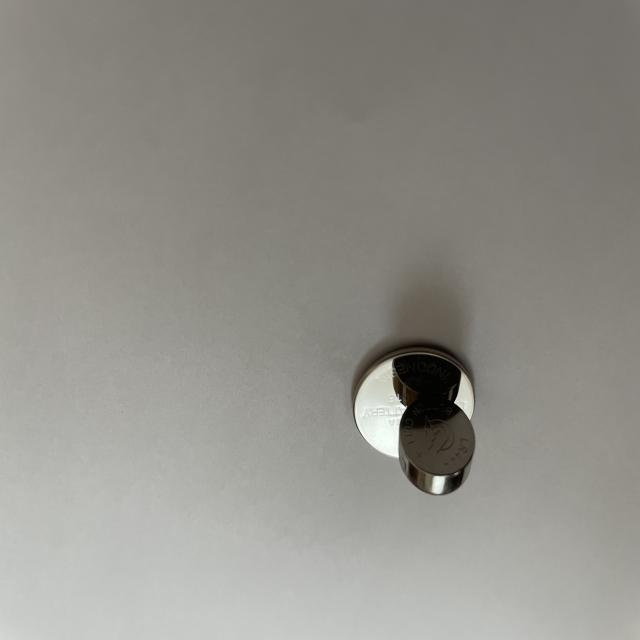COIN: (354, 349, 474, 461), (398, 400, 475, 495)
